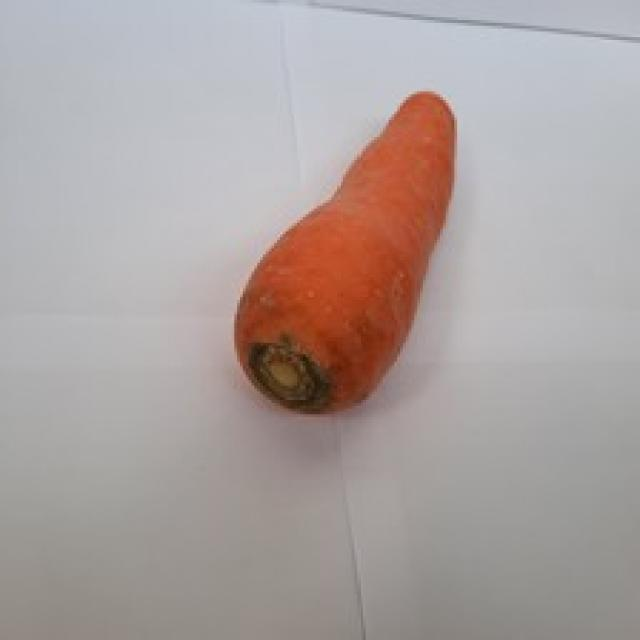carrot: (232, 87, 459, 410)
